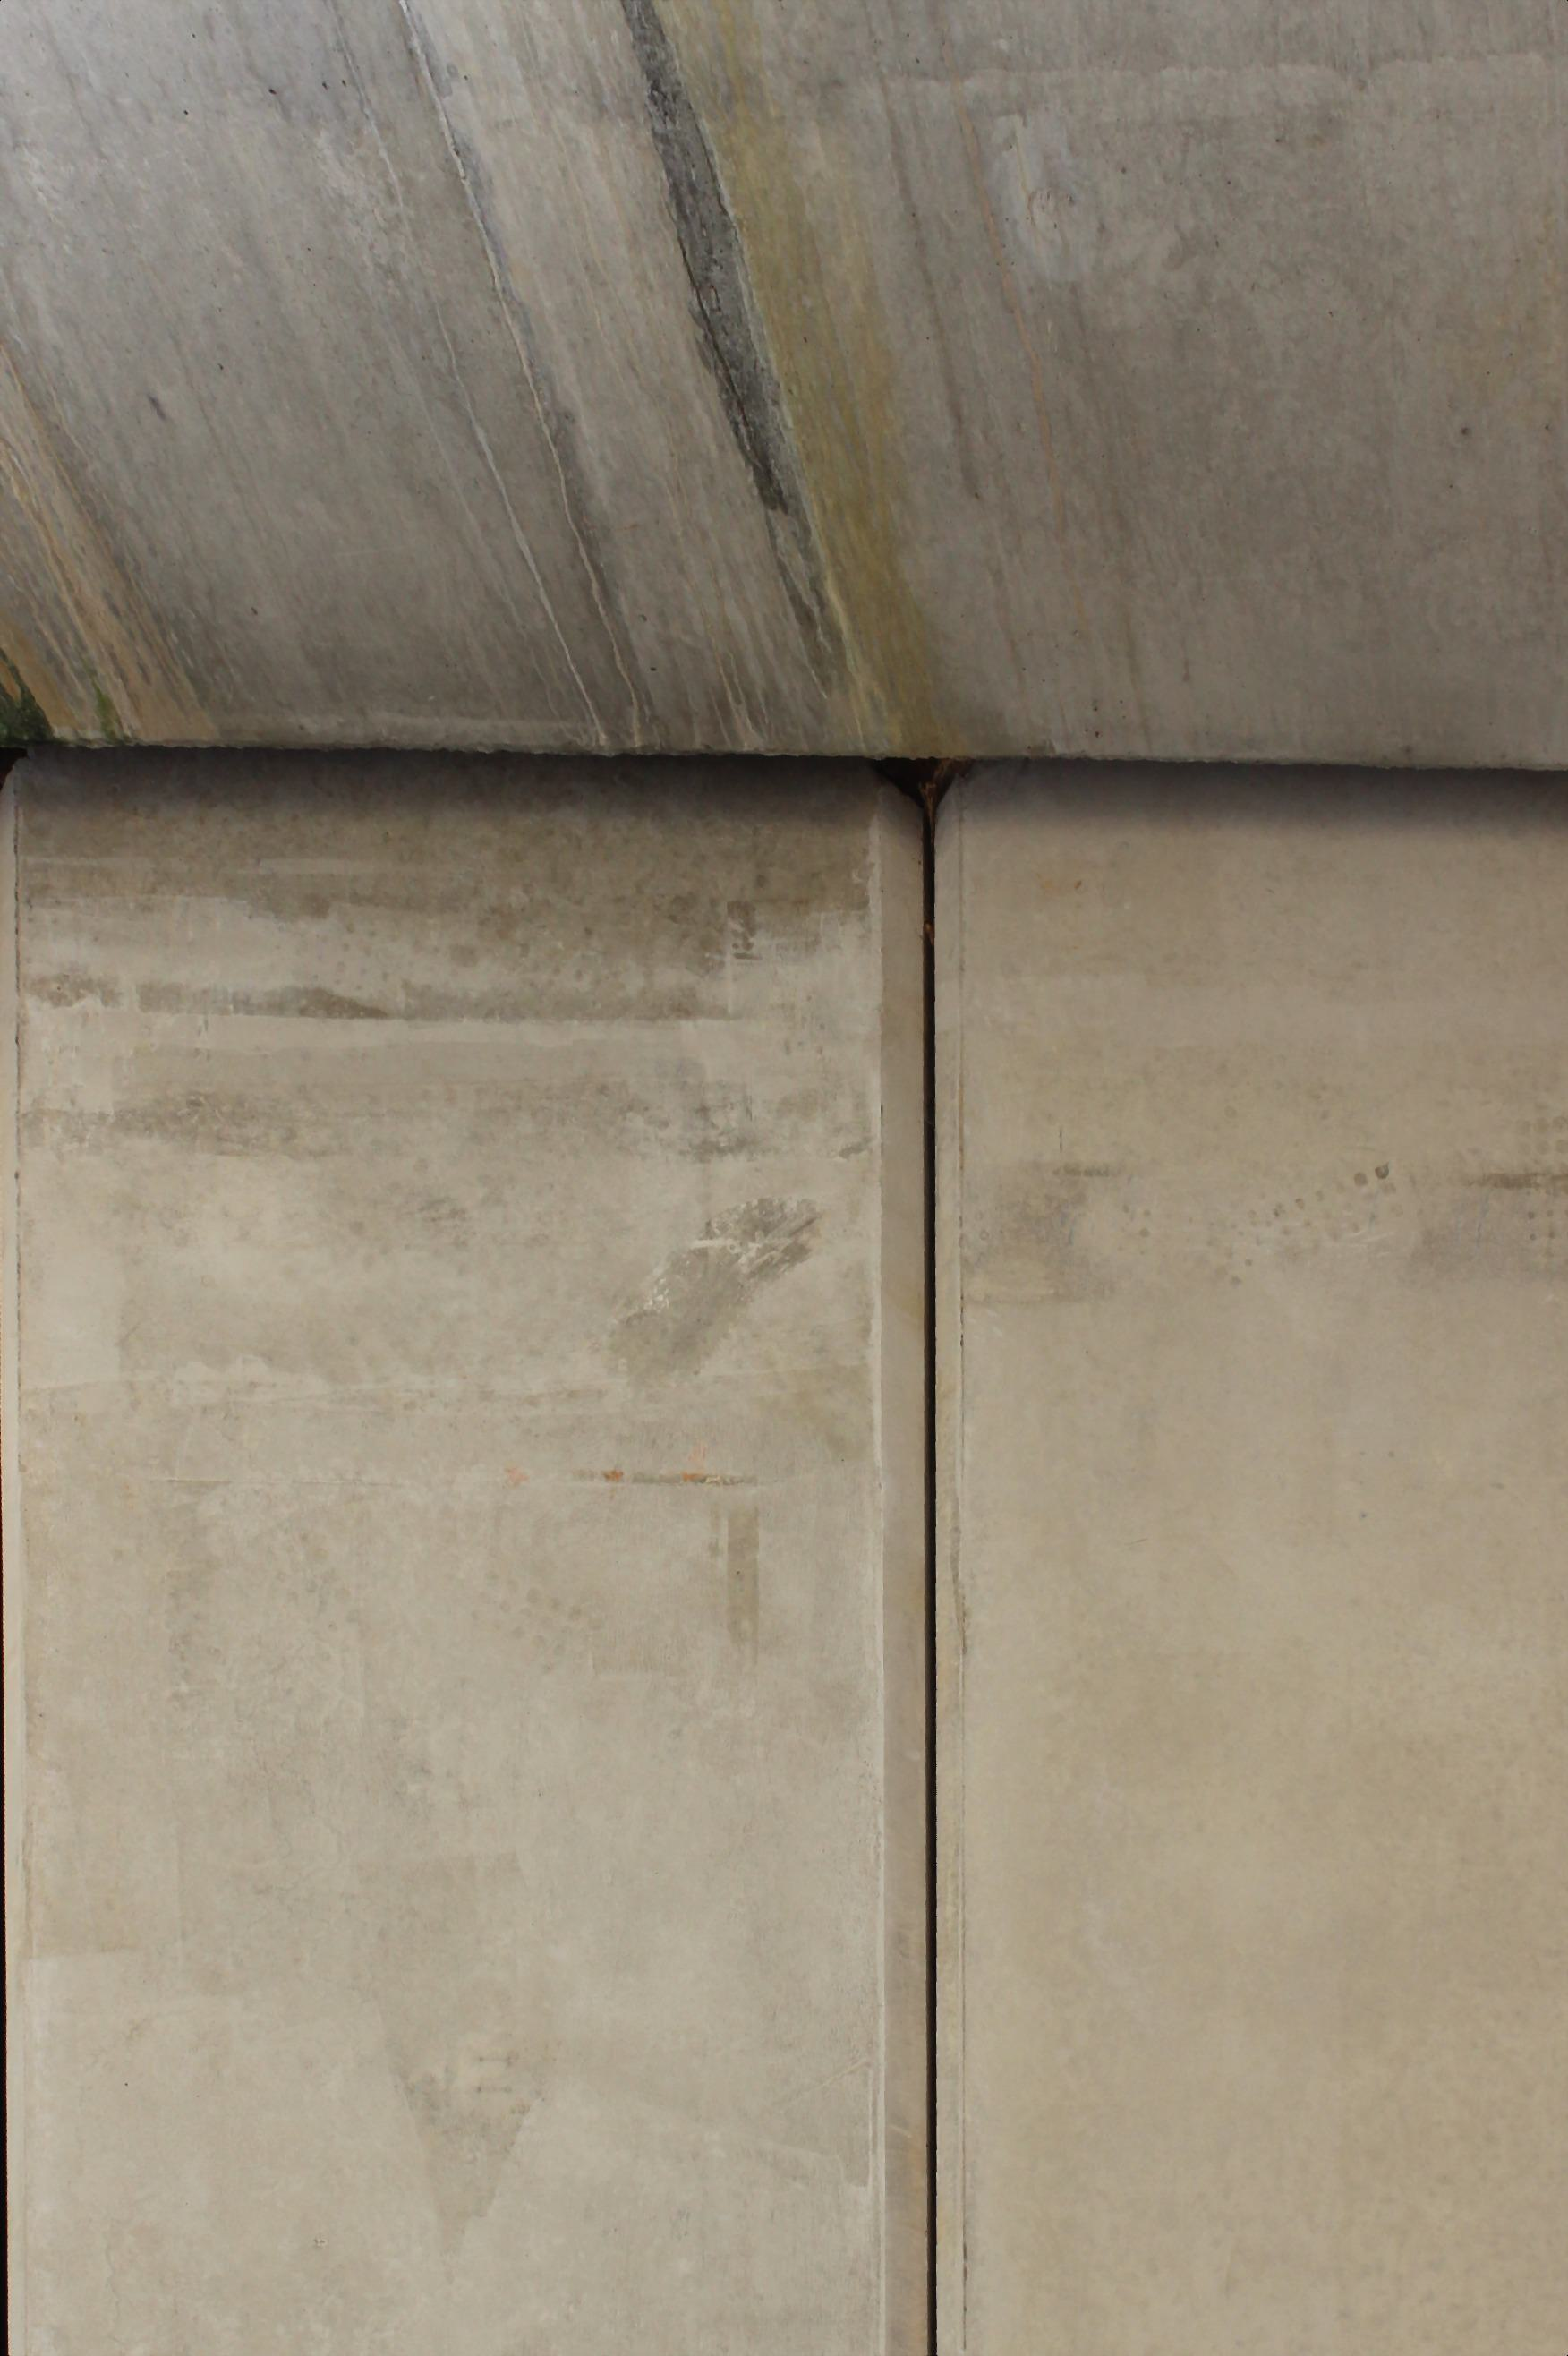Corrosion: (651, 2, 962, 758)
Crack: (2, 345, 229, 753)
Spalling: (619, 2, 791, 515)
